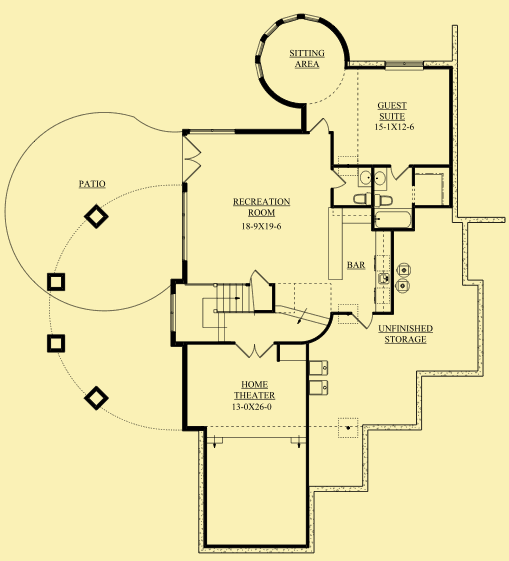door: (181, 134, 203, 182), (233, 339, 275, 360), (353, 309, 380, 331), (309, 116, 335, 137), (327, 167, 349, 190), (246, 265, 270, 284)
large_sink: (370, 192, 396, 210), (349, 190, 372, 205)
stairs: (201, 282, 253, 343)
tub: (373, 208, 414, 229)
window: (380, 58, 427, 75)
